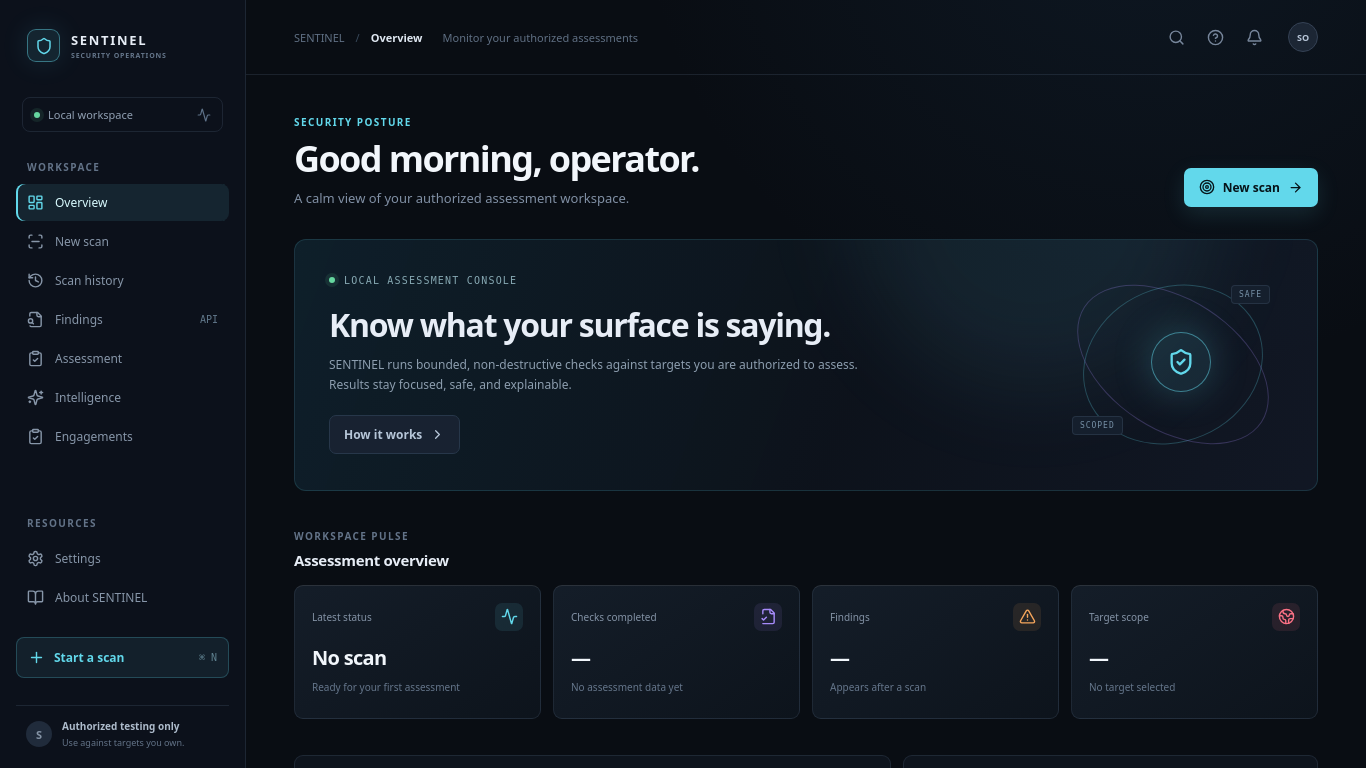
Test: SENTINEL dashboard flows › shows an API error state for external-tool availability
This screenshot has width=1366, height=768.
Click the button "Settings".
click(122, 558)  # box [16,540,229,577]
(page scrolled)
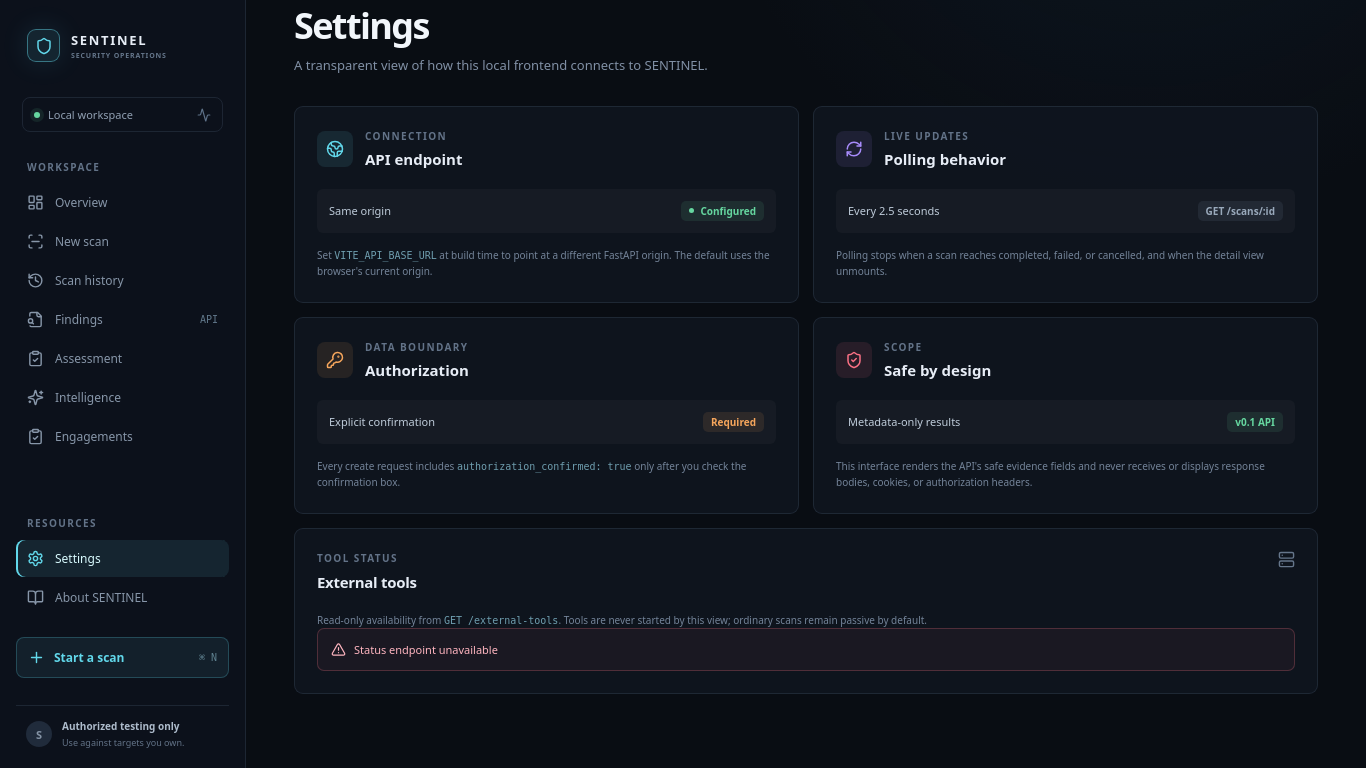
Check: the message reads "Status endpoint unavailable", box [354,642,498,657]
